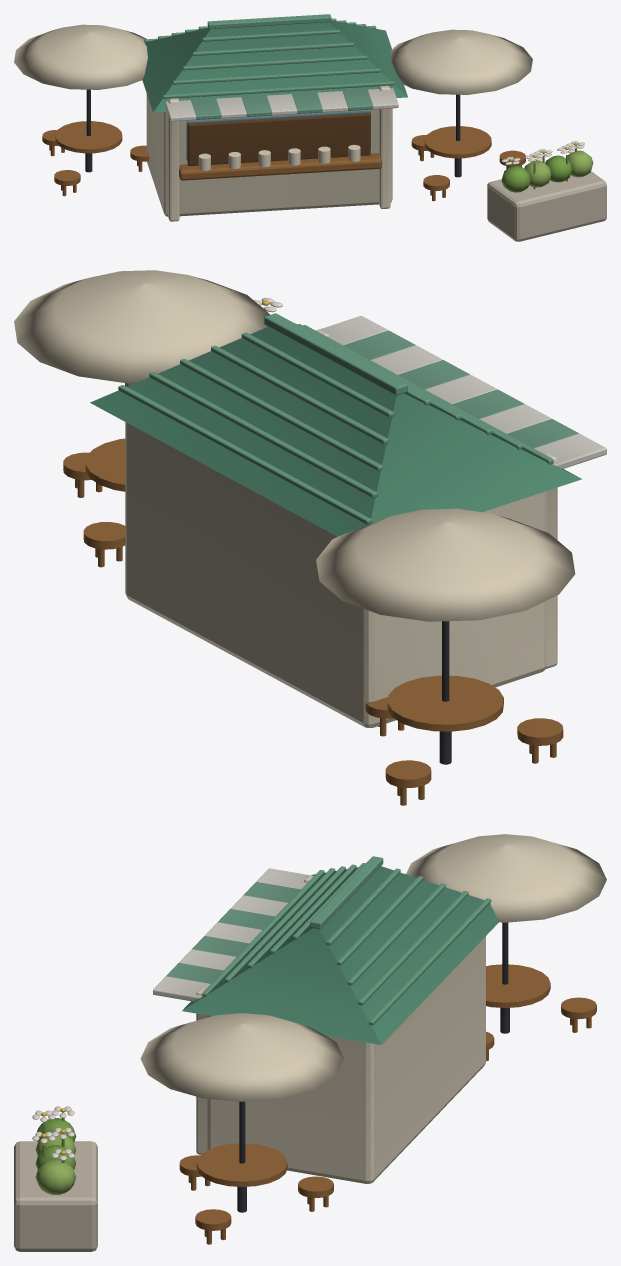
Rendered from cafe.glb.
3 views of the same model, one above another, from view 1: azimuth 30°, elevation 25°; view 2: azimuth 150°, elevation 25°; view 3: azimuth 270°, elevation 25° (orthographic). The views are drawn at different scales.
Parts seen in each view (by area): view 1: cafe; view 2: cafe; view 3: cafe.
Boxes of the visible parts, x1,y1,x2,y2 form: cafe: (14, 14, 606, 241); cafe: (14, 270, 606, 805); cafe: (14, 834, 606, 1251).
Bounding box in the file's own units: 5.24 × 2.05 × 4.95.
